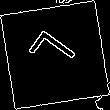L_SE: (25, 27, 85, 83)
